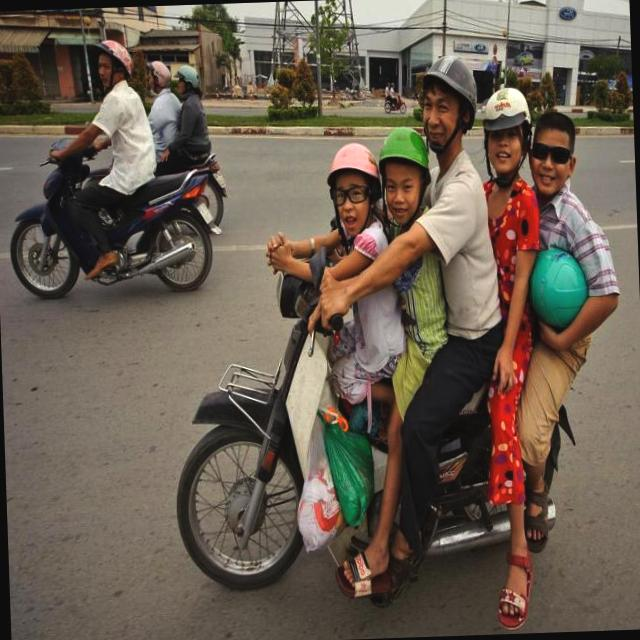motorcycle: (164, 236, 583, 596), (11, 140, 218, 306)
person: (407, 51, 503, 400), (524, 103, 624, 424), (310, 143, 399, 420), (468, 76, 548, 340), (374, 126, 449, 384), (75, 38, 165, 220)
rider_region: (154, 42, 634, 614), (15, 26, 216, 302)
